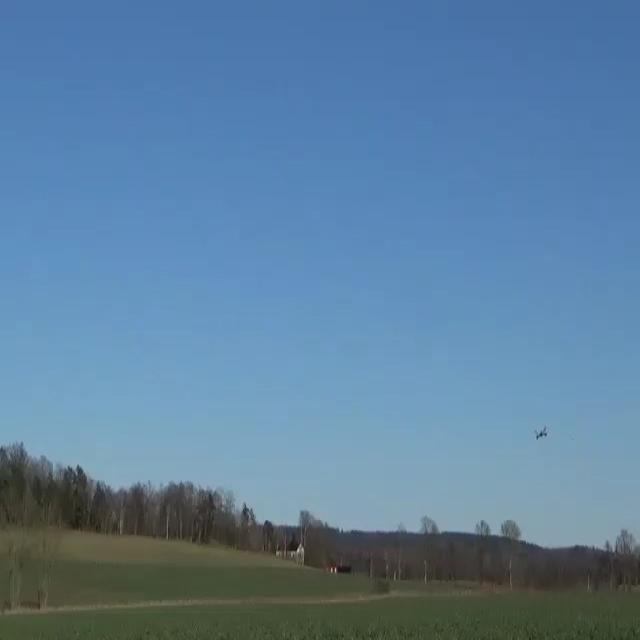drone: (533, 425, 549, 441)
